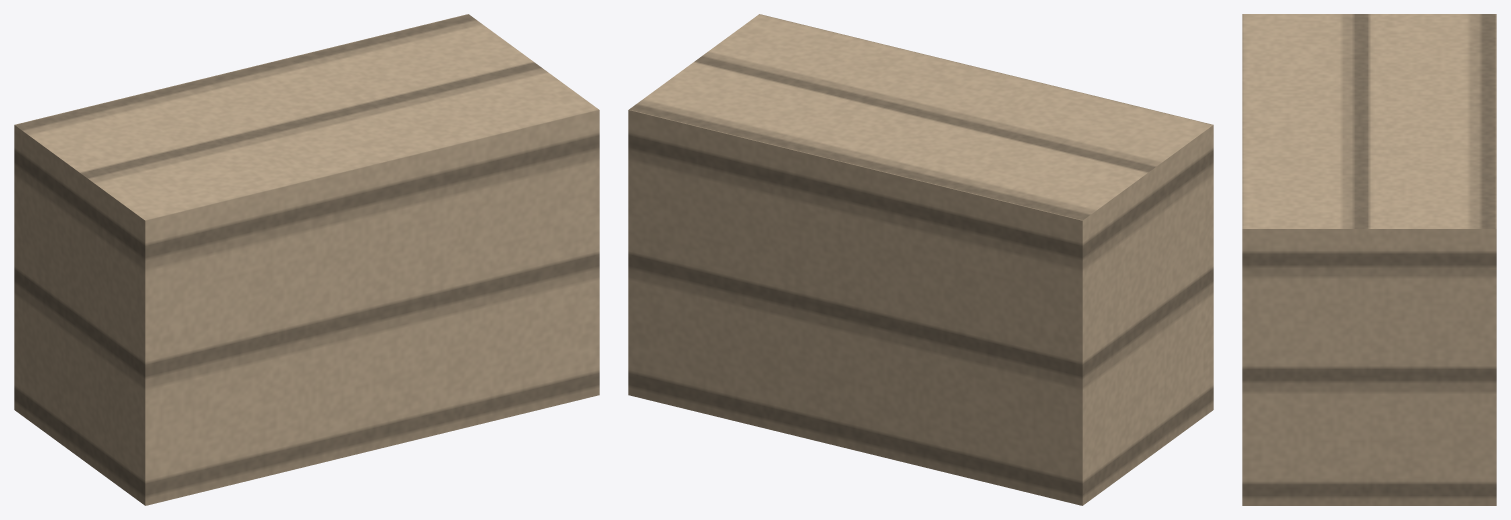
The model's file is canned_goods_pantry_stock.glb.
3 views of the same model, side by side, from view 1: azimuth 30°, elevation 25°; view 2: azimuth 150°, elevation 25°; view 3: azimuth 270°, elevation 25° (orthographic). The views are drawn at different scales.
Visible parts, largest first — view 1: canned_goods_pantry_stock-col; view 2: canned_goods_pantry_stock-col; view 3: canned_goods_pantry_stock-col.
Part boxes in pixels (x1,y1,x2,y2): canned_goods_pantry_stock-col: (14, 14, 599, 505); canned_goods_pantry_stock-col: (628, 14, 1213, 505); canned_goods_pantry_stock-col: (1242, 14, 1496, 505).
Size of the model in its own units: 0.5 by 0.3 by 0.25.
1 material, 1 textured.
